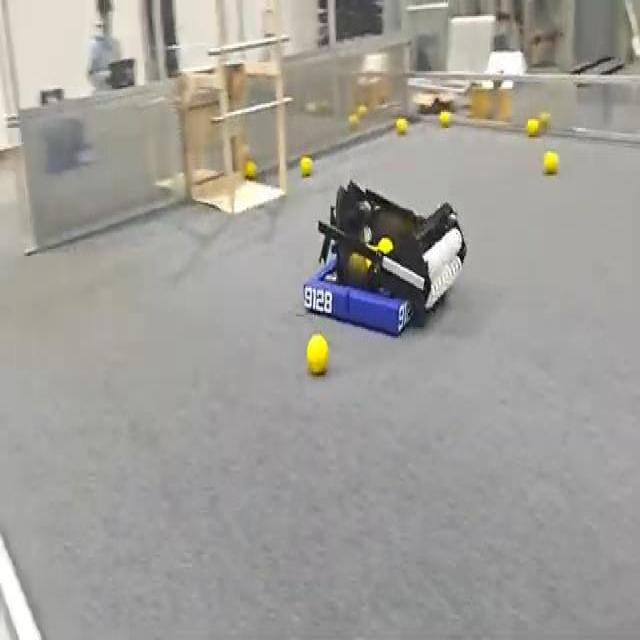Fuel: (306, 334, 328, 374), (543, 151, 558, 174), (526, 117, 540, 137), (299, 156, 312, 176), (244, 160, 256, 179), (244, 160, 256, 178), (396, 118, 407, 134), (439, 110, 449, 126), (440, 111, 449, 127), (358, 104, 368, 118), (349, 113, 358, 127), (349, 114, 358, 126), (357, 105, 367, 115)
